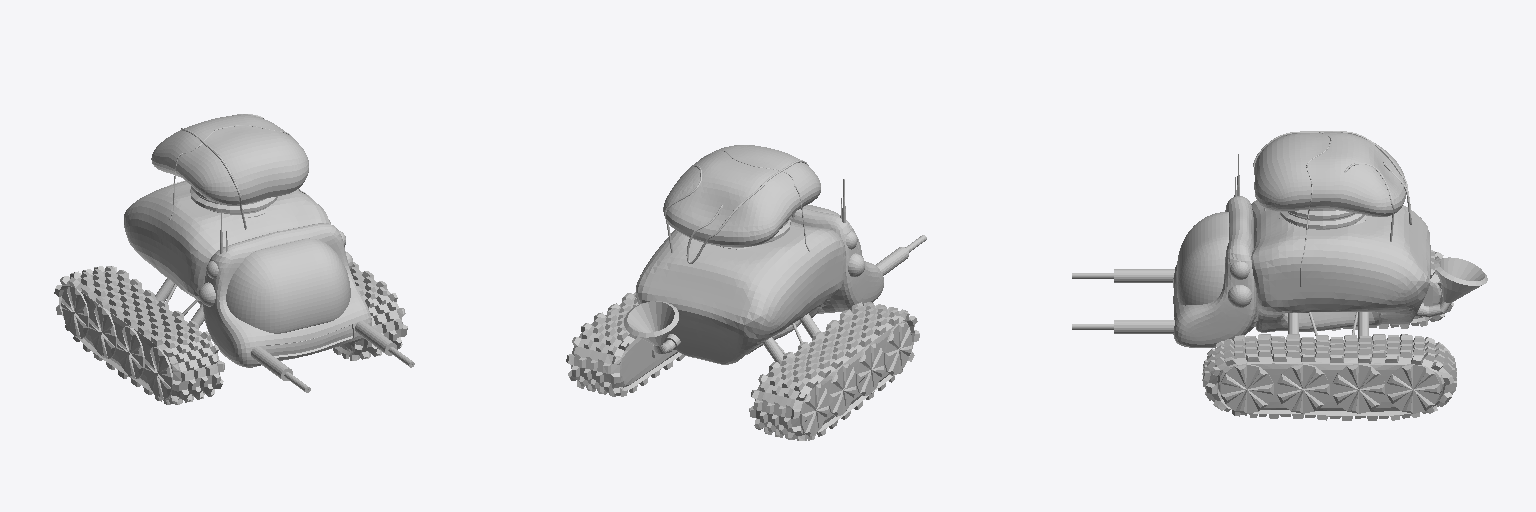
File: Basic Tank.obj
3 views of the same model, side by side, from view 1: azimuth 30°, elevation 25°; view 2: azimuth 150°, elevation 25°; view 3: azimuth 270°, elevation 25° (orthographic).
Visible parts, largest first — view 1: Geo Body, Geo Bubble, Geo R_Tread_Part_10, Geo Windsheild, Geo Head, Geo L_Tread_Part_1, Geo R_Tread_Part_4, Geo R_Tread_Part_3, Geo R_Tread_Part_5, Geo R_Tread_Part_6, Geo Accordian, Geo Guns_2 (+1 smaller); view 2: Geo Body, Geo Bubble, Geo R_Tread_Part_10, Geo L_Tread_Part_1, Geo Head, Geo Exhaust, Geo R_Tread_Part_5, Geo R_Tread_Part_3, Geo R_Tread_Part_4, Geo R_Tread_Part_6, Geo Rope_1; view 3: Geo Body, Geo L_Tread_Part_1, Geo Bubble, Geo Head, Geo Windsheild, Geo L_Tread_Part_4, Geo L_Tread_Part_3, Geo L_Tread_Part_5, Geo L_Tread_Part_6, Geo Exhaust, Geo Accordian, Geo R_Tread_Part_10 (+3 smaller).
Boxes of the visible parts, box(x1,y1,x2,y2) form: Geo Body: box(124, 181, 330, 305); Geo Bubble: box(151, 115, 308, 205); Geo R_Tread_Part_10: box(54, 266, 224, 404); Geo Windsheild: box(226, 238, 350, 333); Geo Head: box(203, 223, 371, 367); Geo L_Tread_Part_1: box(333, 262, 407, 360); Geo R_Tread_Part_4: box(89, 305, 116, 358); Geo R_Tread_Part_3: box(145, 347, 172, 399); Geo R_Tread_Part_5: box(117, 326, 144, 378); Geo R_Tread_Part_6: box(61, 286, 88, 338); Geo Accordian: box(190, 186, 277, 217); Geo Guns_2: box(251, 346, 292, 380); Geo Body: box(636, 221, 845, 364); Geo Bubble: box(663, 145, 820, 247); Geo R_Tread_Part_10: box(749, 302, 919, 440); Geo L_Tread_Part_1: box(566, 292, 684, 396); Geo Head: box(790, 208, 883, 313); Geo Exhaust: box(624, 301, 680, 353); Geo R_Tread_Part_5: box(856, 343, 883, 395); Geo R_Tread_Part_3: box(884, 322, 911, 375); Geo R_Tread_Part_4: box(828, 363, 855, 416); Geo R_Tread_Part_6: box(800, 383, 828, 436); Geo Rope_1: box(686, 160, 808, 263); Geo Body: box(1251, 200, 1430, 332); Geo L_Tread_Part_1: box(1202, 334, 1456, 420); Geo Bubble: box(1254, 132, 1406, 216); Geo Head: box(1173, 196, 1257, 347); Geo Windsheild: box(1177, 212, 1228, 305); Geo L_Tread_Part_4: box(1332, 363, 1384, 413); Geo L_Tread_Part_3: box(1221, 363, 1273, 413); Geo L_Tread_Part_5: box(1277, 363, 1329, 413); Geo L_Tread_Part_6: box(1387, 364, 1439, 413); Geo Exhaust: box(1416, 257, 1487, 317); Geo Accordian: box(1279, 209, 1366, 229); Geo R_Tread_Part_10: box(1332, 250, 1453, 330).
Size of the model in its own units: 20.65 by 18.74 by 31.61.